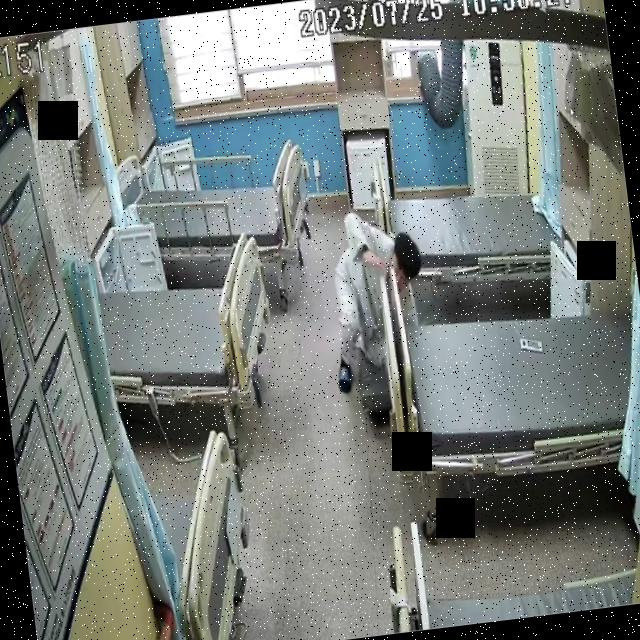bed: (397, 289, 640, 490), (92, 229, 284, 426), (115, 134, 312, 278), (372, 154, 566, 296)
fall: (315, 204, 437, 398)
patient: (316, 204, 438, 398)
